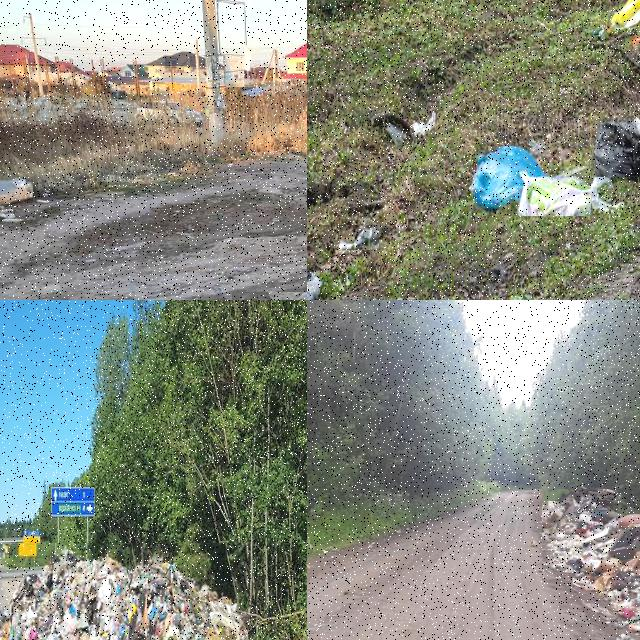lixeira: (0, 544, 251, 639), (542, 489, 639, 639), (473, 147, 592, 218), (595, 122, 639, 179), (607, 0, 639, 34), (339, 225, 380, 251), (0, 178, 34, 206), (307, 270, 323, 299)
